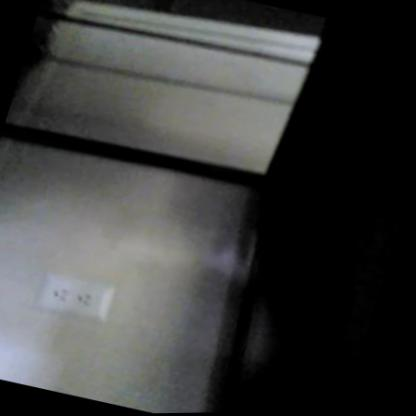OUTLET: (35, 271, 118, 323)
